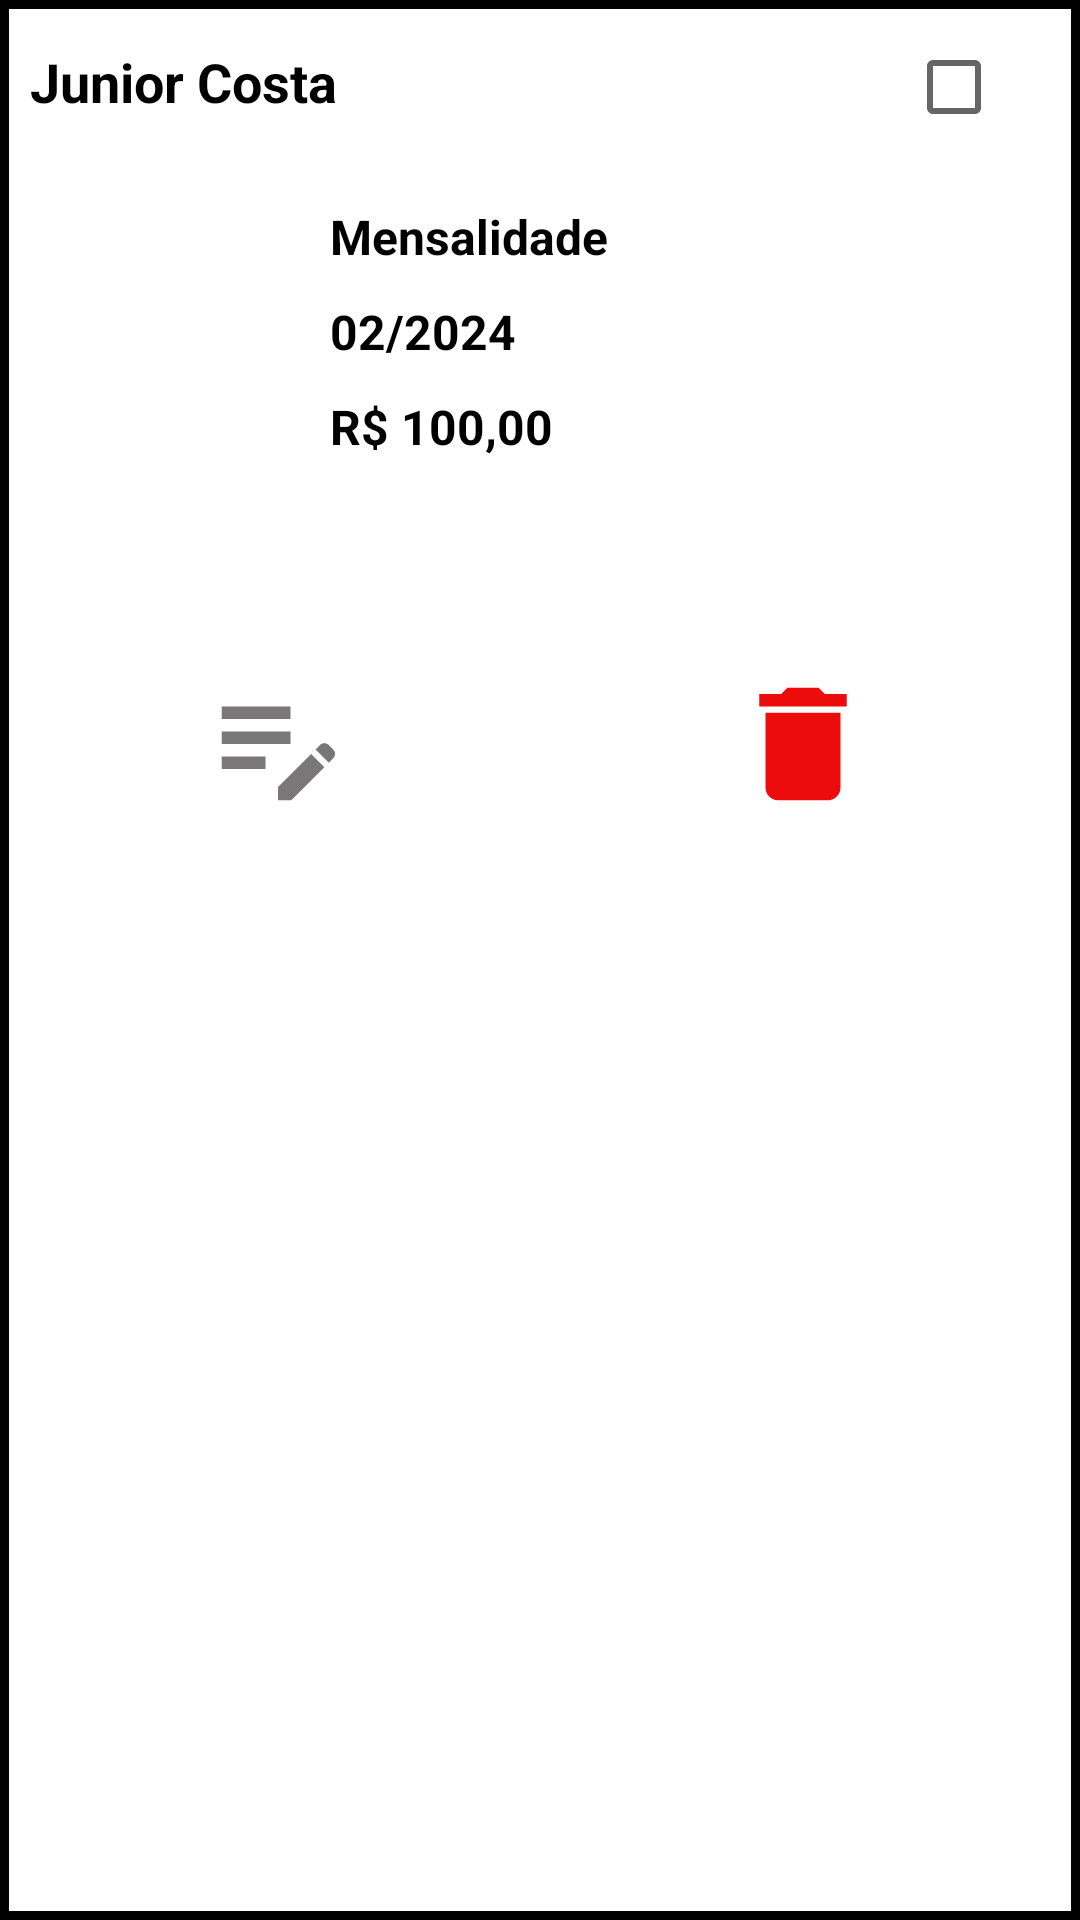

Icon click points for this 1080 × 1920 phone screenshot, format (x=x, y=y):
deletar mensalidade: (x=803, y=744)
editar mensalidade: (x=278, y=753)
